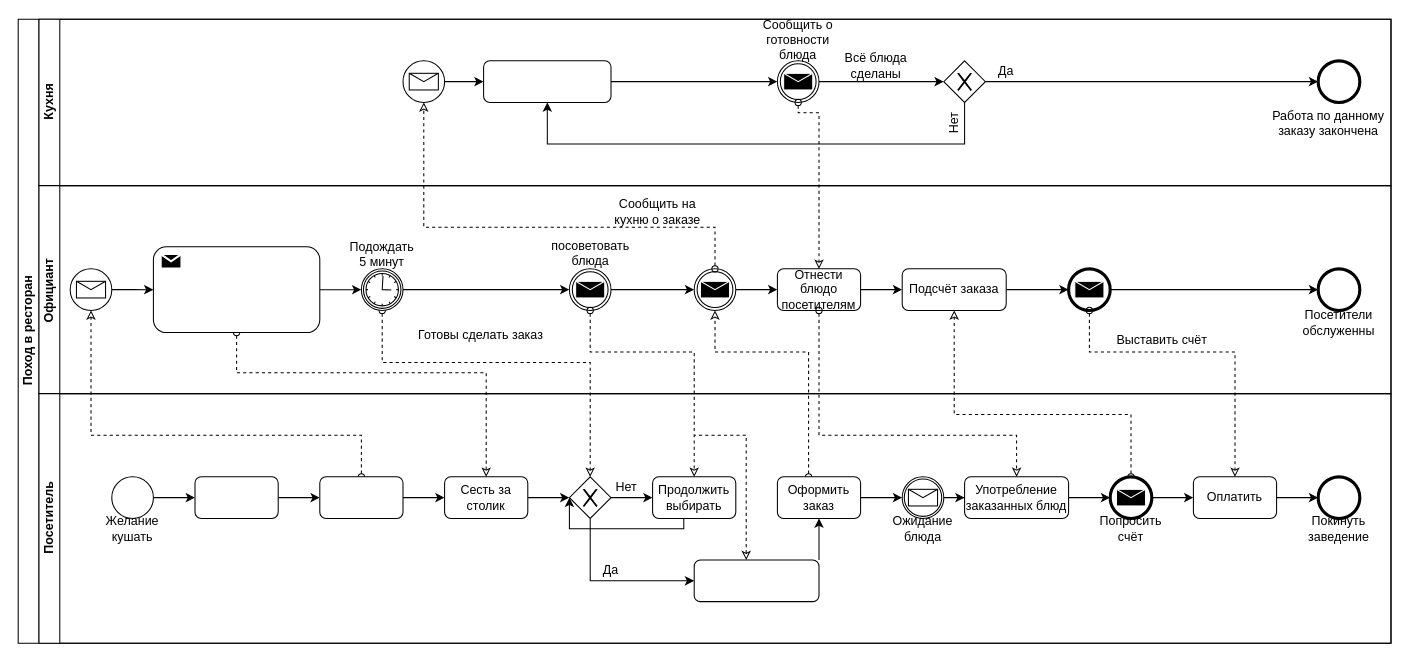
The diagram is 1409 pixels wide and 661 high, and some of its shapes have lost their labels. The centre of each missing label's shape, as x and y in pixels:
"Выбор ресторана" goes at (x=236, y=497).
"Готовка блюд по заказу" goes at (x=547, y=81).
"Зайти внутрь" goes at (x=361, y=497).
"Поприветствовать посетителей и найти для них подходящий столик" goes at (x=236, y=289).
"Формирование заказа" goes at (x=756, y=580).
